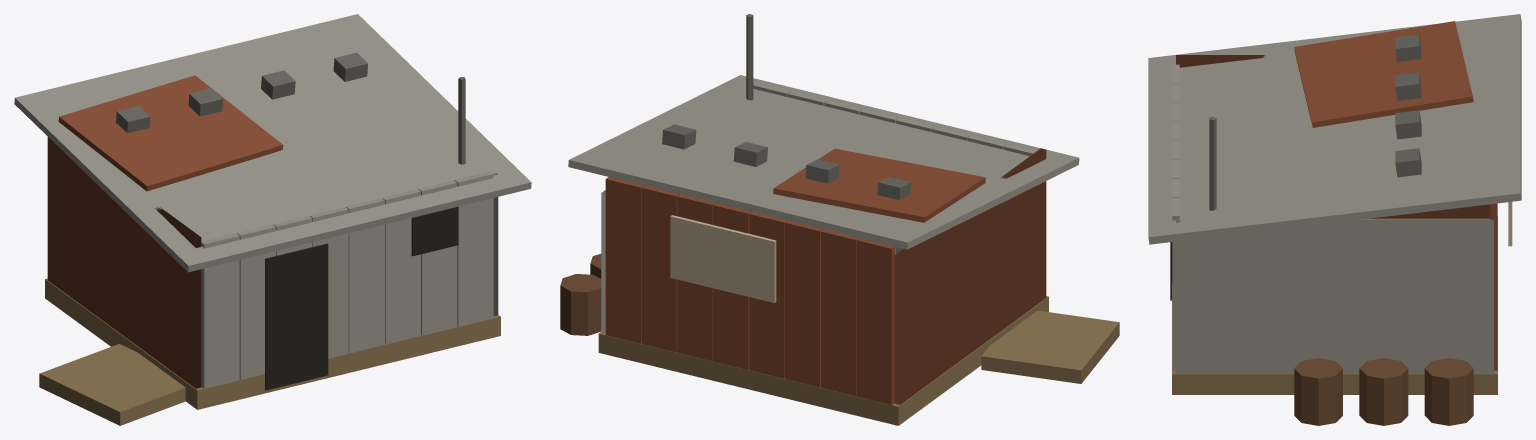
Rendered from S_Shanty.glb.
3 views of the same model, side by side, from view 1: azimuth 30°, elevation 25°; view 2: azimuth 150°, elevation 25°; view 3: azimuth 270°, elevation 25° (orthographic). The views are drawn at different scales.
Visible parts, largest first — view 1: S_Shanty; view 2: S_Shanty; view 3: S_Shanty.
Boxes of the visible parts, left/top/right/bottom form: S_Shanty: left=14, top=14, right=531, bottom=425; S_Shanty: left=560, top=14, right=1119, bottom=425; S_Shanty: left=1148, top=14, right=1521, bottom=425.
Size of the model in its own units: 6.94 by 3.6 by 4.57.
